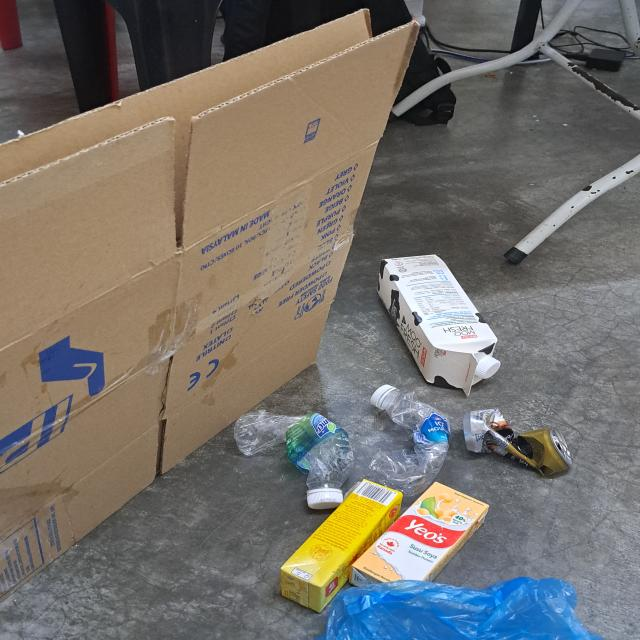can: (463, 409, 574, 477)
cardboard: (0, 9, 423, 602)
drink carton: (378, 253, 498, 397), (279, 478, 402, 613), (350, 482, 490, 586)
plastic bag: (317, 577, 604, 640)
plastic bottle: (234, 410, 355, 490), (368, 389, 451, 498)
plastic bottle cap: (307, 488, 343, 509), (370, 384, 396, 407), (475, 356, 501, 378)
pop tab: (559, 441, 571, 457)
